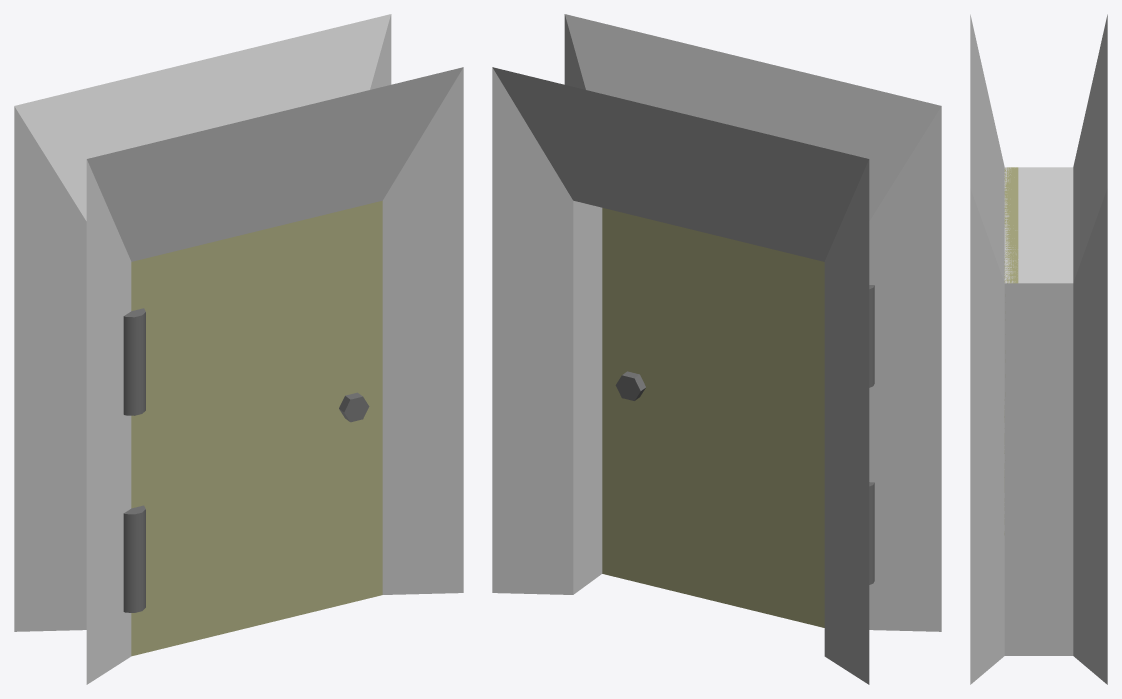
The model's file is BasicDoor.fbx.
The picture shows the model from 3 angles, left to right: view 1: azimuth 30°, elevation 25°; view 2: azimuth 150°, elevation 25°; view 3: azimuth 270°, elevation 25°; orthographic projection. The views are drawn at different scales.
Visible parts, largest first — view 1: Door_Frame_01, Door; view 2: Door_Frame_01, Door; view 3: Door_Frame_01, Door.
Part boxes in pixels (x1,y1,x2,y2): Door_Frame_01: (14,14,463,684); Door: (131,200,382,656); Door_Frame_01: (492,14,941,684); Door: (602,208,824,627); Door_Frame_01: (970,14,1107,684); Door: (1004,167,1018,534).
Bounding box in the file's own units: 3 × 4 × 1.
